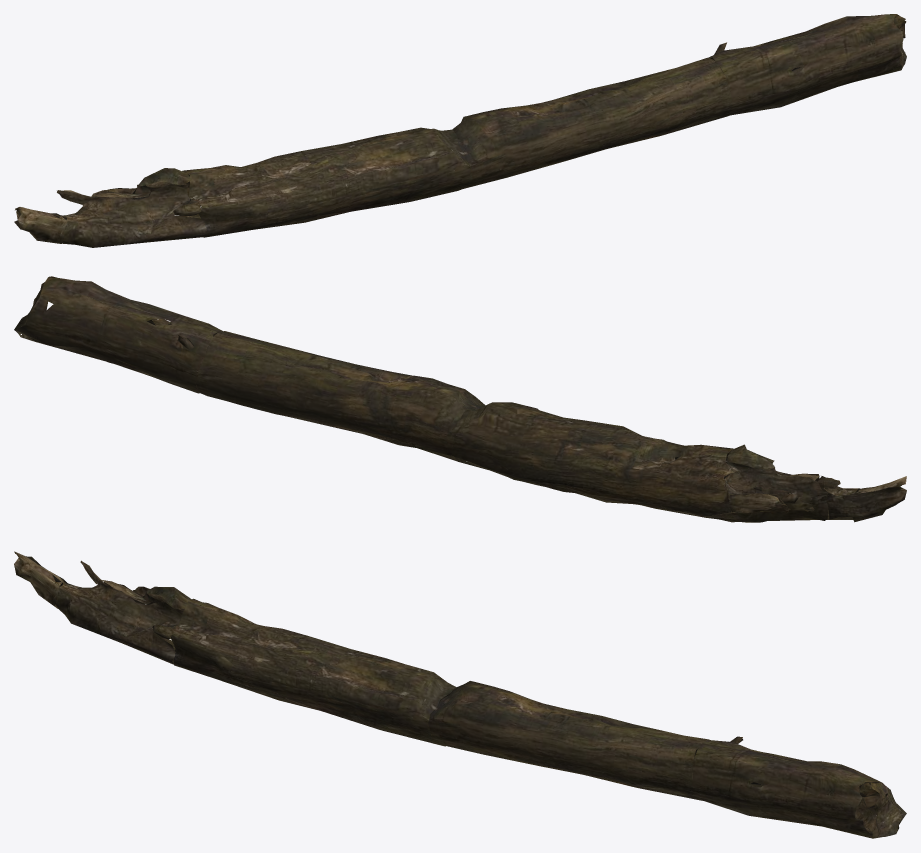
The model's file is dead_tree_trunk.glb.
3 views of the same model, one above another, from view 1: azimuth 30°, elevation 25°; view 2: azimuth 150°, elevation 25°; view 3: azimuth 330°, elevation 25° (orthographic).
Parts seen in each view (by area): view 1: dead_tree_trunk; view 2: dead_tree_trunk; view 3: dead_tree_trunk.
Part boxes in pixels (x1,y1,x2,y2): dead_tree_trunk: (14,14,906,247); dead_tree_trunk: (14,276,906,522); dead_tree_trunk: (14,551,906,838).
Size of the model in its own units: 3.05 by 0.2937 by 0.2732.
Materials: 1 (1 with a texture image).
